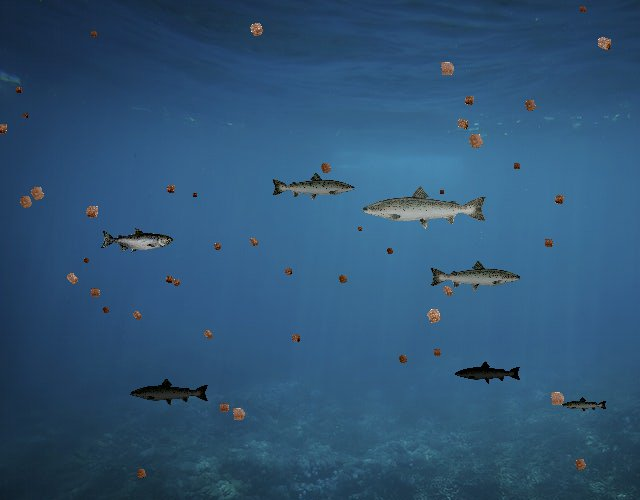Fish: (360, 184, 489, 230), (429, 260, 523, 294), (270, 171, 356, 202), (129, 377, 210, 406), (100, 227, 173, 253), (454, 360, 522, 385), (561, 396, 608, 413)
Pellet: (242, 15, 270, 43), (60, 266, 85, 291), (568, 452, 592, 476), (19, 110, 31, 122)
